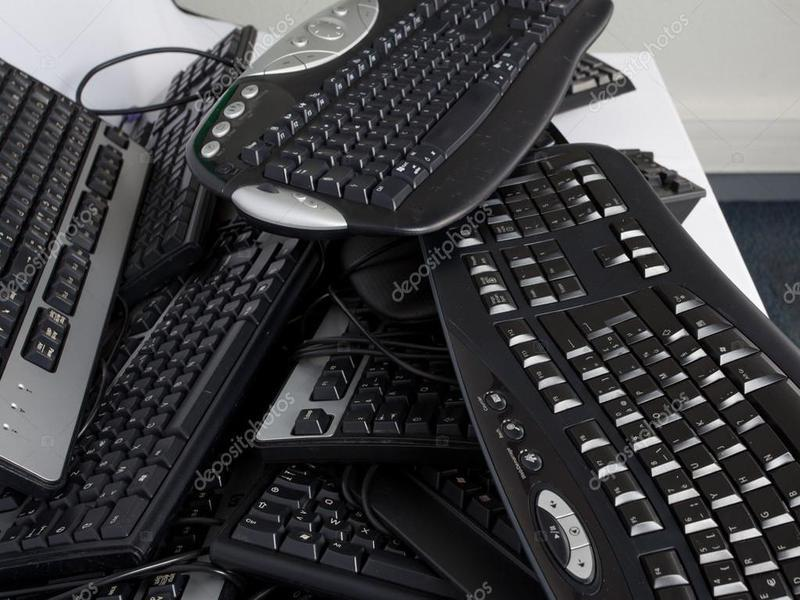keyboard: (415, 144, 800, 600), (1, 224, 336, 575), (178, 2, 621, 236), (1, 50, 153, 490), (244, 274, 488, 456), (119, 23, 260, 292)
